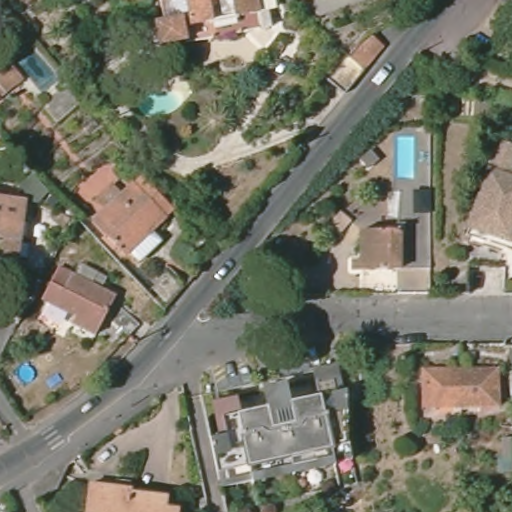pool: (20, 51, 63, 90), (140, 88, 187, 119), (390, 133, 420, 179), (12, 361, 39, 386)
